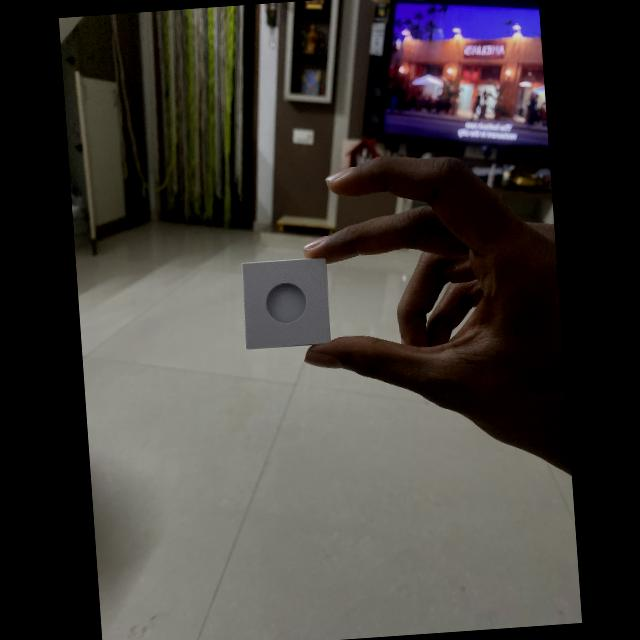RASPBERY PI CAM ENCLOSURE: (240, 256, 332, 350)
